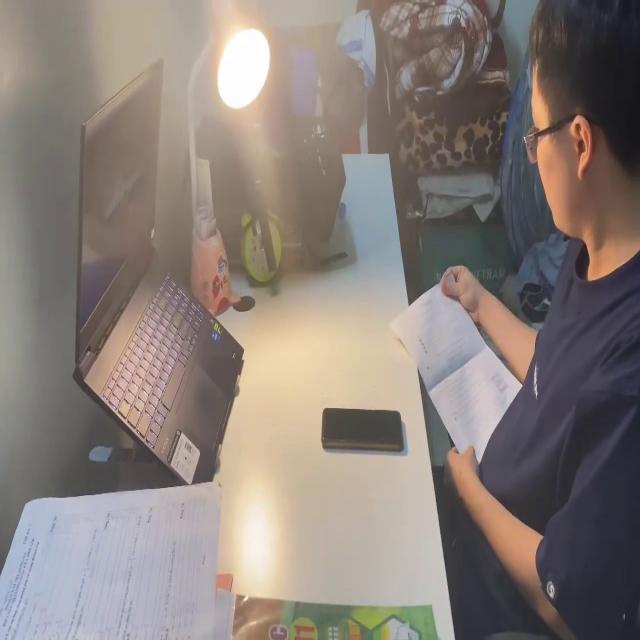book: (0, 482, 220, 640), (384, 267, 526, 461), (230, 586, 438, 640)
laptop: (70, 48, 246, 487)
phone: (322, 406, 406, 453)
student: (425, 0, 640, 640)
